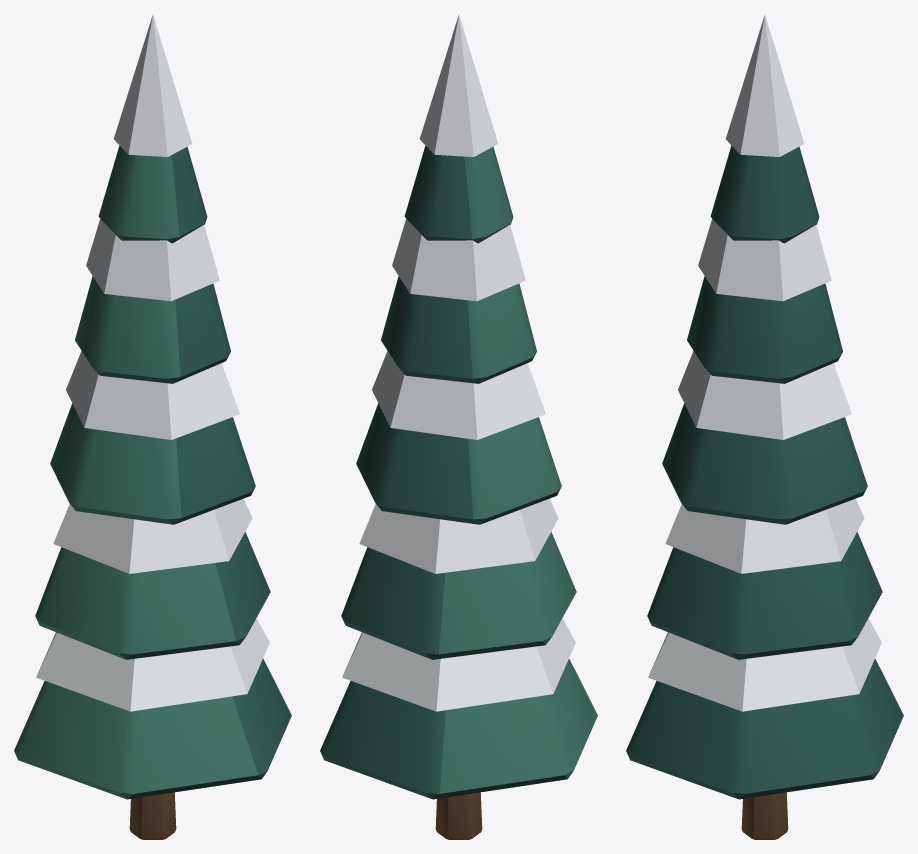
File: Fir_A.fbx
3 renders of one model, left to right at view 1: azimuth 30°, elevation 25°; view 2: azimuth 150°, elevation 25°; view 3: azimuth 270°, elevation 25°, orthographic.
Parts seen in each view (by area): view 1: Fir_A; view 2: Fir_A; view 3: Fir_A.
Boxes of the visible parts, <box> form: Fir_A: <box>14,15,291,839</box>; Fir_A: <box>320,15,597,839</box>; Fir_A: <box>626,15,903,839</box>.
Size of the model in its own units: 1.41 by 4.42 by 1.36.
